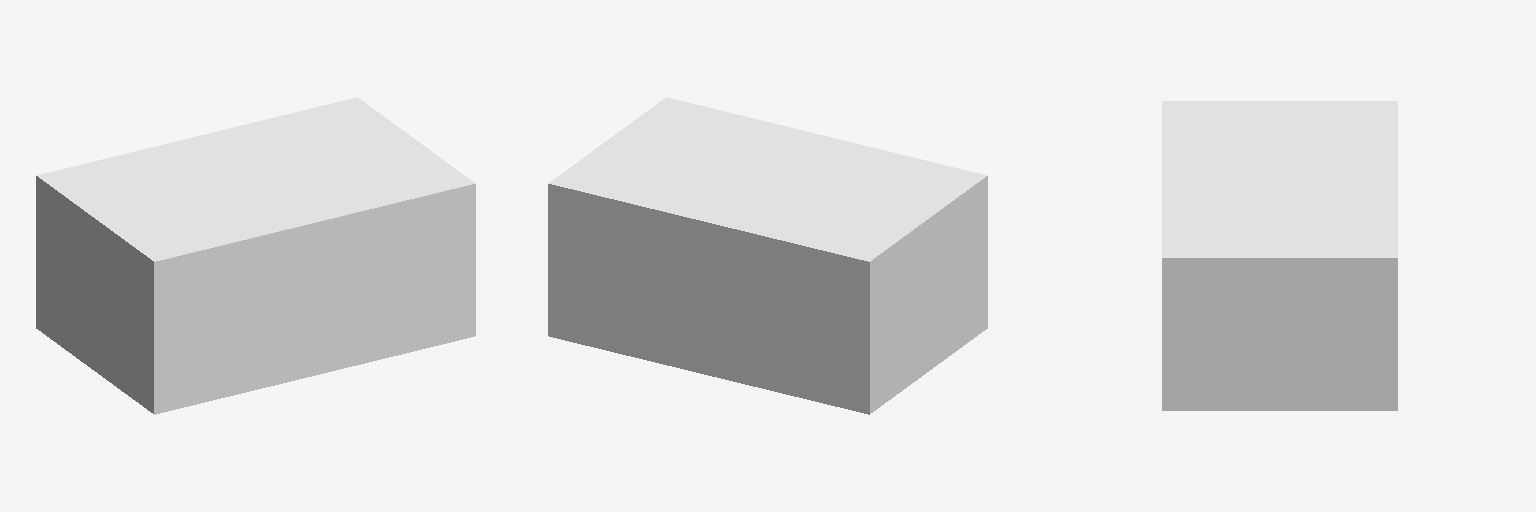
The model's file is caja2.obj.
3 views of the same model, side by side, from view 1: azimuth 30°, elevation 25°; view 2: azimuth 150°, elevation 25°; view 3: azimuth 270°, elevation 25° (orthographic).
Visible parts, largest first — view 1: object 1; view 2: object 1; view 3: object 1.
Boxes of the visible parts, box(x1,y1,x2,y2) form: object 1: box(36, 97, 475, 414); object 1: box(548, 97, 987, 414); object 1: box(1162, 101, 1397, 410).
Bounding box in the file's own units: 2.2 × 1 × 1.4.